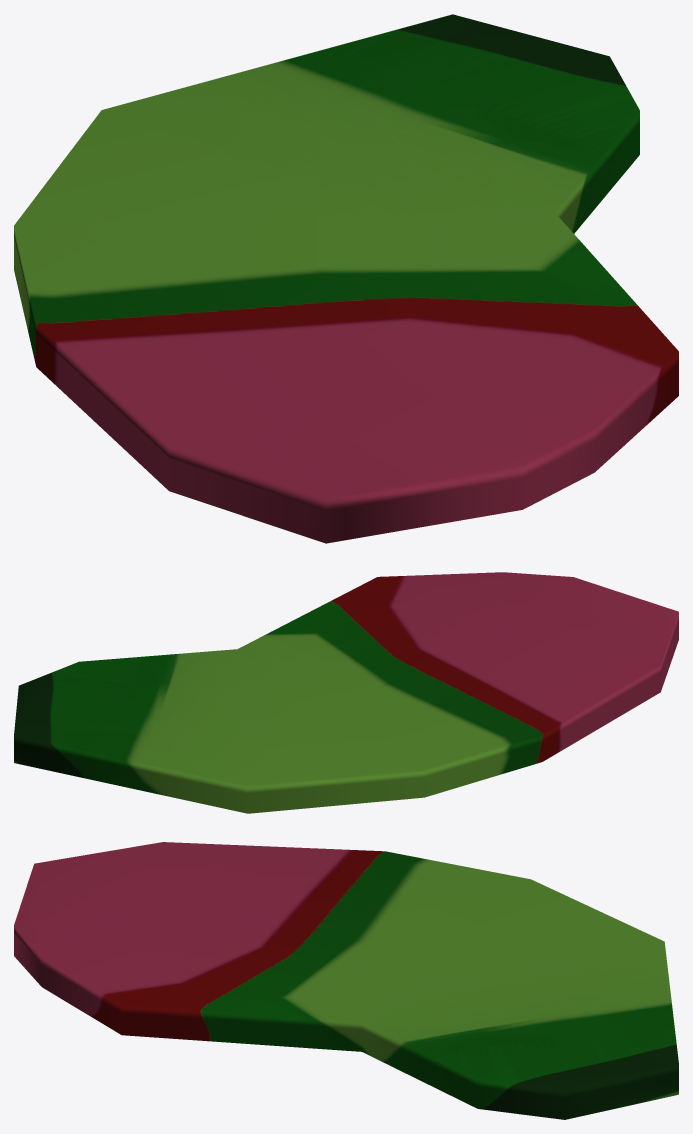
Rendered from SM_Platform_03.fbx.
3 views of the same model, one above another, from view 1: azimuth 30°, elevation 25°; view 2: azimuth 150°, elevation 25°; view 3: azimuth 270°, elevation 25° (orthographic). The views are drawn at different scales.
Visible parts, largest first — view 1: New_Game_Object_1; view 2: New_Game_Object_1; view 3: New_Game_Object_1.
Boxes of the visible parts, left/top/right/bottom form: New_Game_Object_1: left=14, top=14, right=678, bottom=543; New_Game_Object_1: left=14, top=572, right=678, bottom=813; New_Game_Object_1: left=14, top=842, right=678, bottom=1119.
Bounding box in the file's own units: 1642 × 95.48 × 1867.
